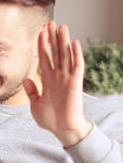down: (21, 20, 86, 133)
